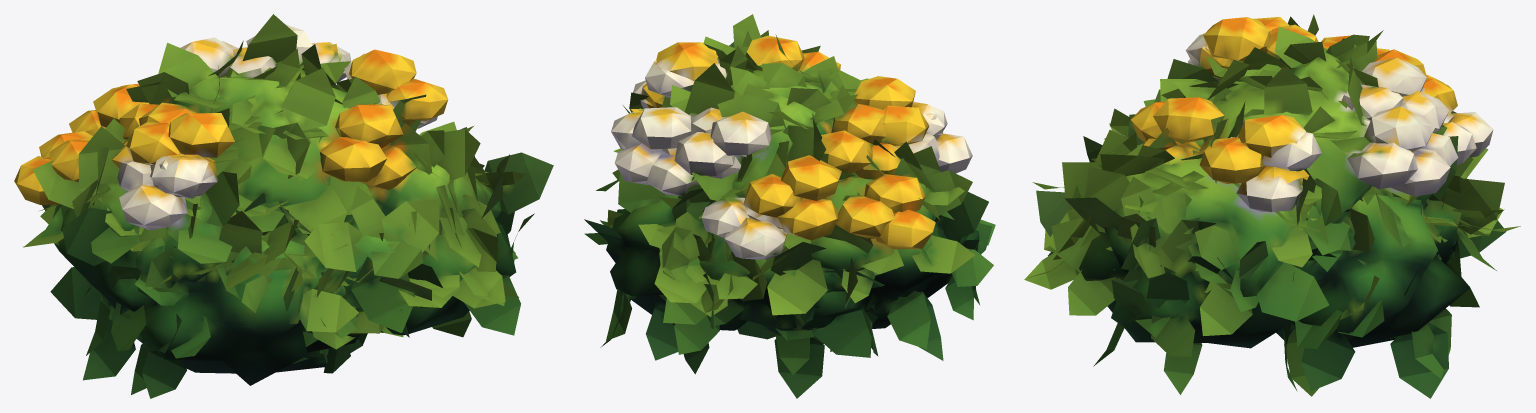
The model's file is flower_bush.glb.
The picture shows the model from 3 angles, left to right: view 1: azimuth 30°, elevation 25°; view 2: azimuth 150°, elevation 25°; view 3: azimuth 270°, elevation 25°; orthographic projection. The views are drawn at different scales.
Visible parts, largest first — view 1: flower_bush; view 2: flower_bush; view 3: flower_bush.
Part boxes in pixels (x1,y1,x2,y2): flower_bush: [14, 14, 553, 398]; flower_bush: [584, 14, 995, 398]; flower_bush: [1024, 14, 1520, 398].
Size of the model in its own units: 1.81 by 1.24 by 1.77.
Materials: 1 (1 with a texture image).
